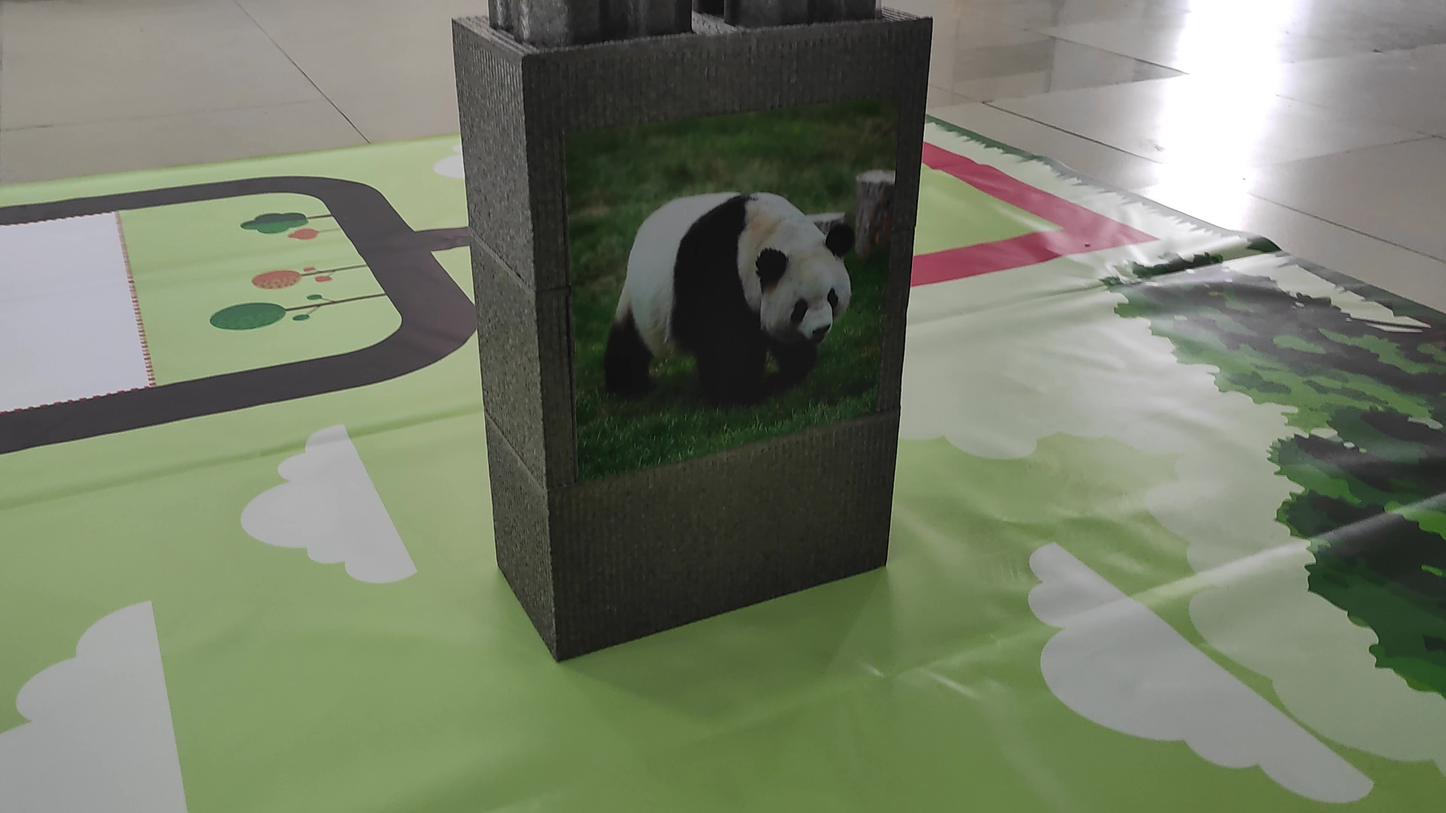panda: (564, 180, 877, 405)
